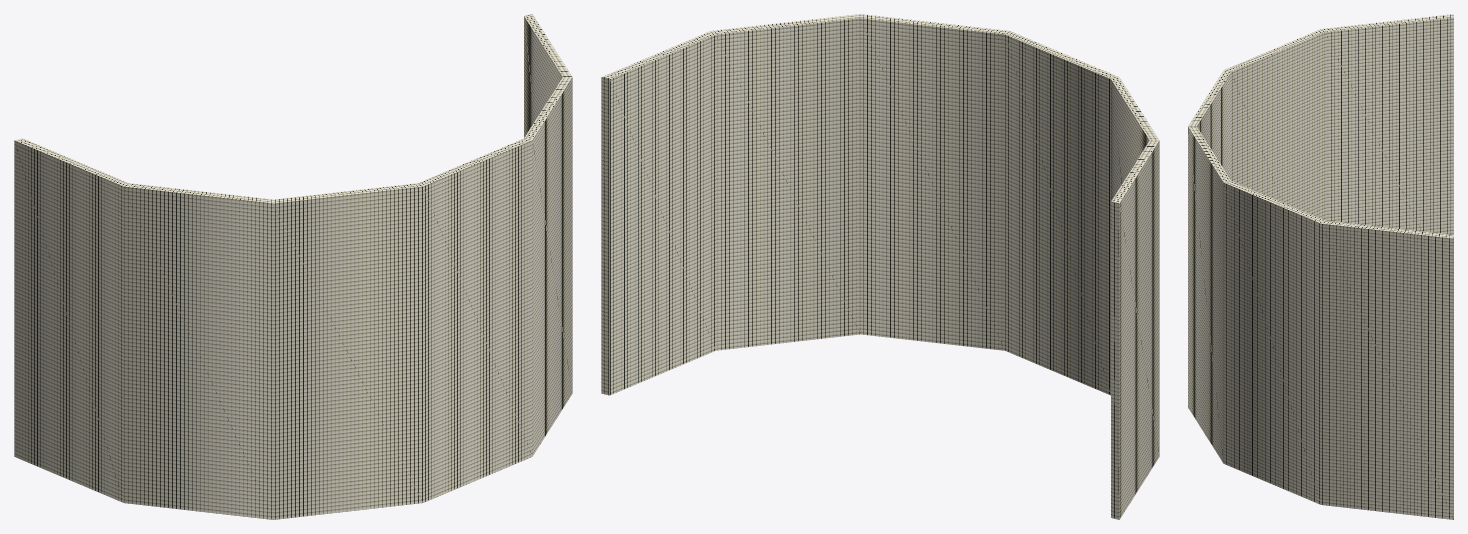
Rendered from pecera.obj.
3 views of the same model, side by side, from view 1: azimuth 30°, elevation 25°; view 2: azimuth 150°, elevation 25°; view 3: azimuth 270°, elevation 25° (orthographic). The views are drawn at different scales.
Visible parts, largest first — view 1: pecera1:enclosure_left; view 2: pecera1:enclosure_left; view 3: pecera1:enclosure_left.
Boxes of the visible parts, left/top/right/bottom form: pecera1:enclosure_left: left=14, top=14, right=572, bottom=519; pecera1:enclosure_left: left=601, top=14, right=1159, bottom=519; pecera1:enclosure_left: left=1188, top=14, right=1453, bottom=519.
Bounding box in the file's own units: 33.62 × 19.61 × 16.81.
1 material, 1 textured.
